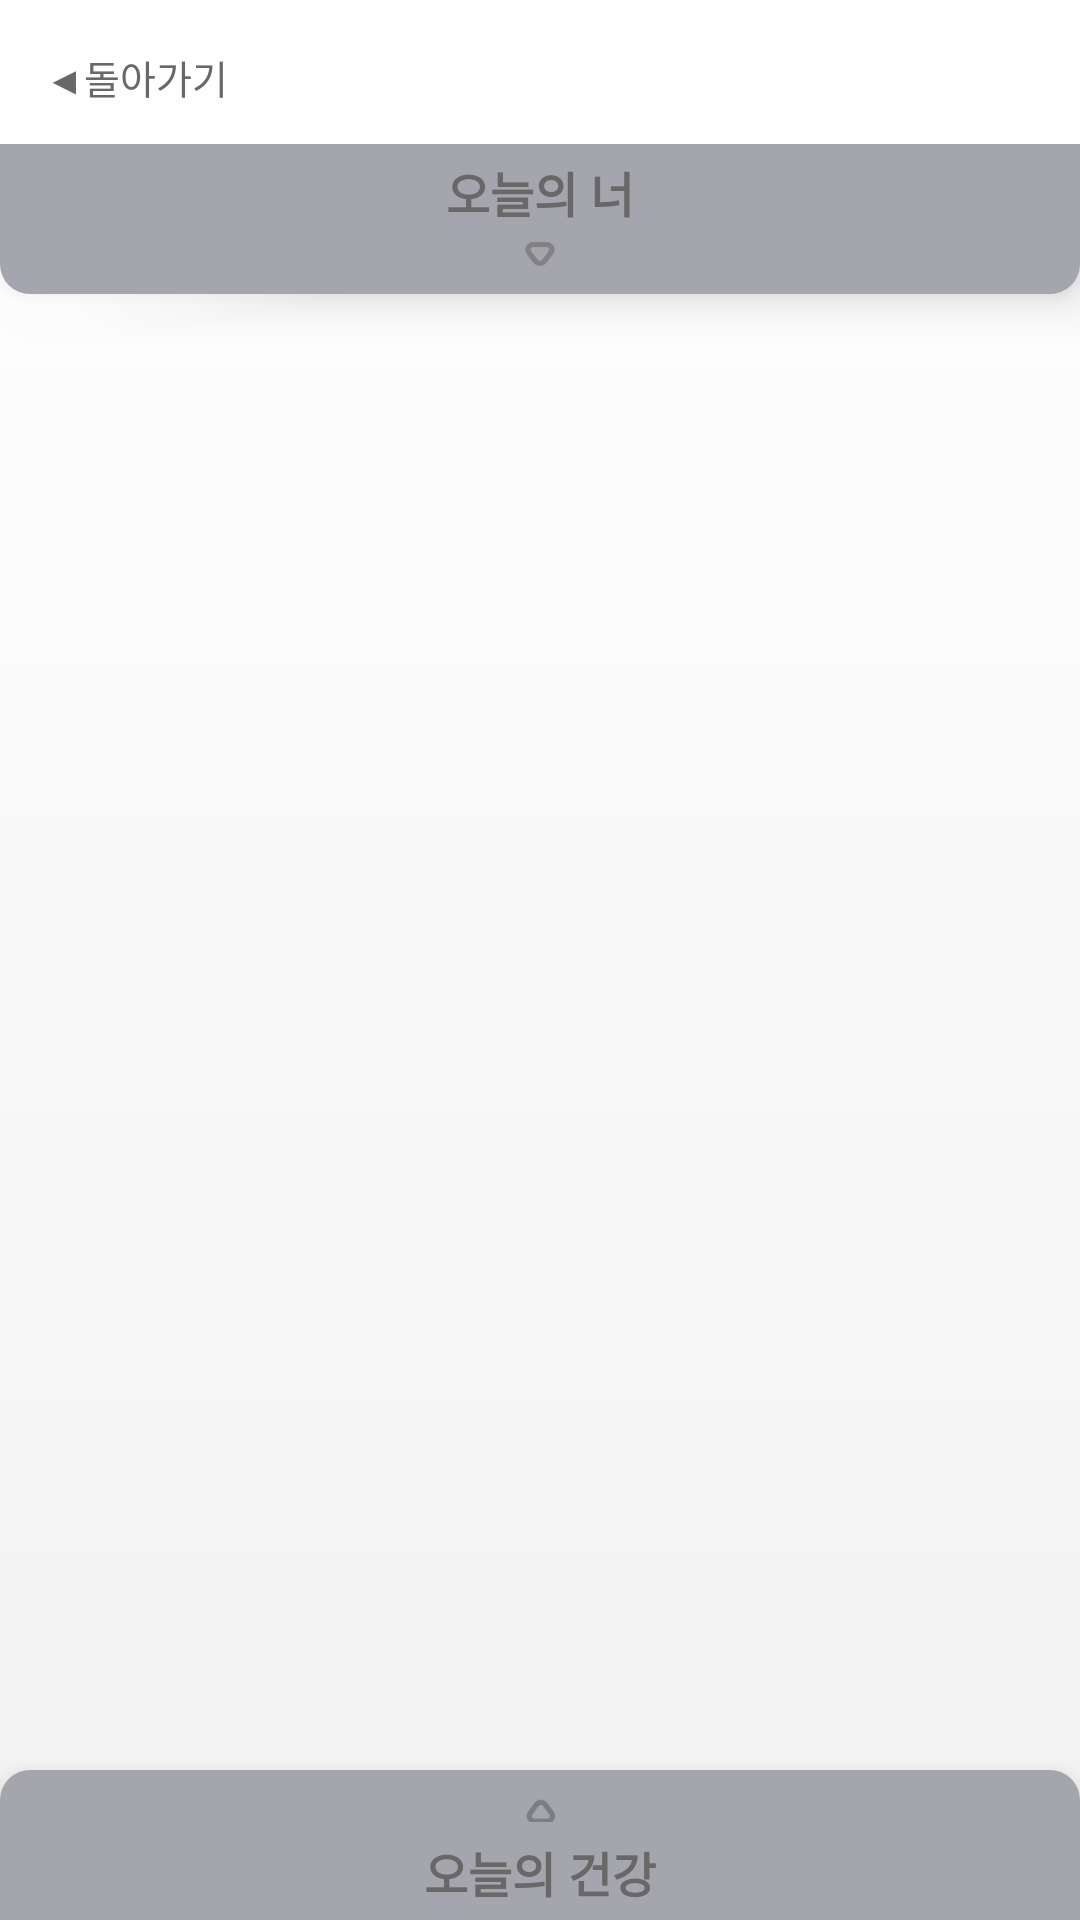

Icons on this 1080×1920 Android screen, each with its box as (x1, y1, x2, y2):
lower triangle: (525, 242, 554, 266)
upper triangle: (527, 1800, 555, 1822)
